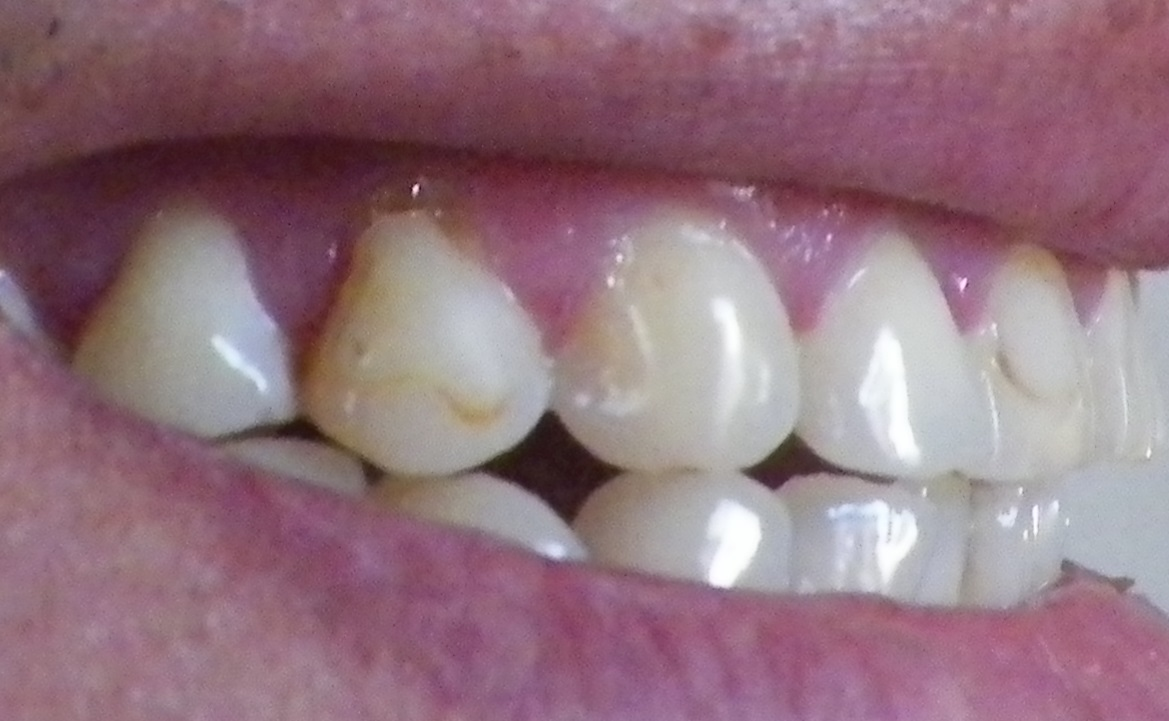boca: (84, 199, 1154, 606)
